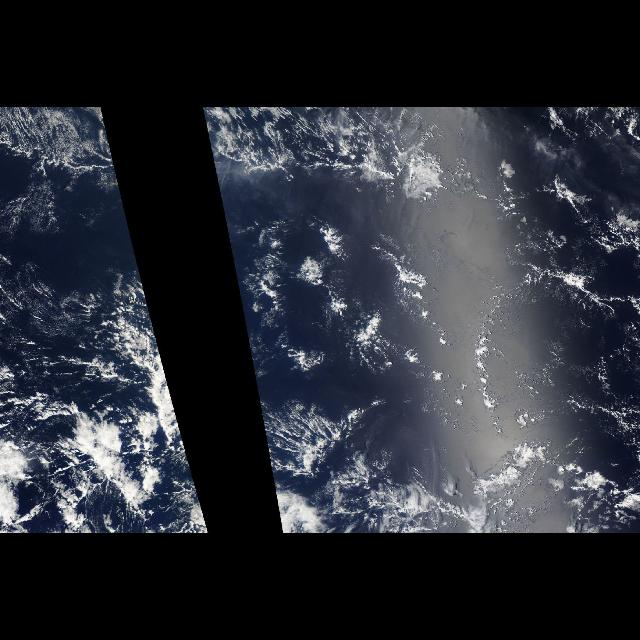Fish: (462, 248, 614, 450), (200, 114, 478, 194), (5, 114, 124, 194)
Flower: (220, 200, 462, 486)
Sugar: (0, 109, 164, 398)
